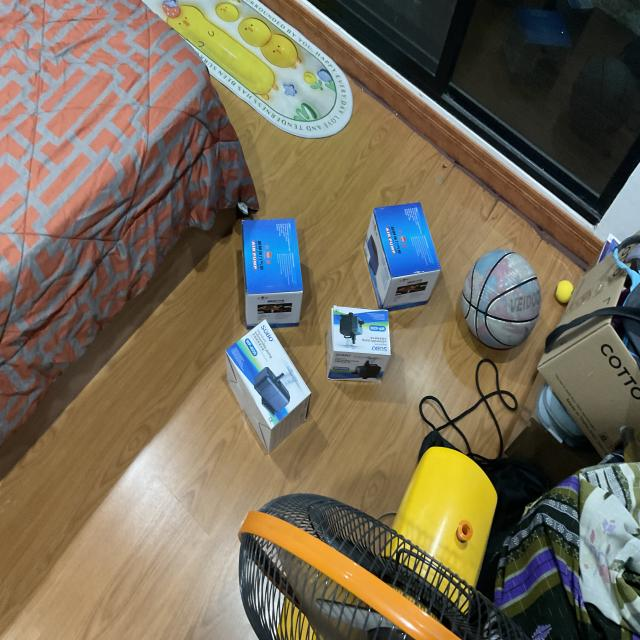SOBO_WP_4200: (218, 315, 312, 449), (326, 296, 403, 390)
YAMANO_LPP_20: (228, 203, 317, 327), (358, 187, 446, 308)
